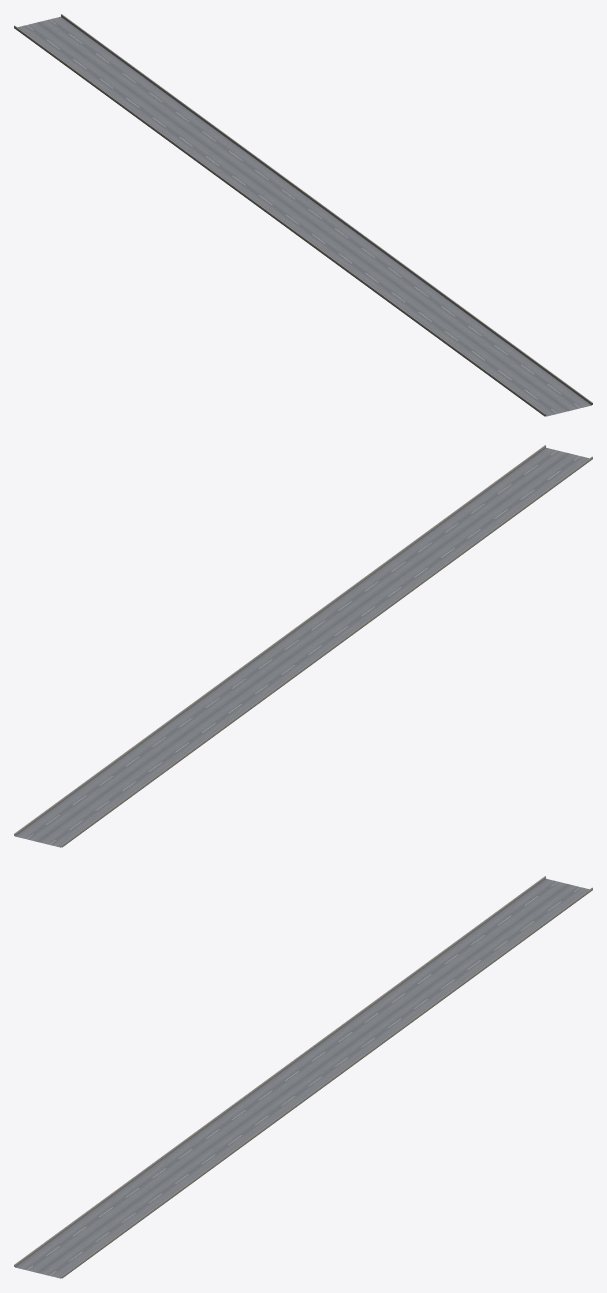
Rendered from title_road_model.fbx.
The picture shows the model from 3 angles, top to bottom: view 1: azimuth 30°, elevation 25°; view 2: azimuth 150°, elevation 25°; view 3: azimuth 330°, elevation 25°; orthographic projection.
Parts seen in each view (by area): view 1: polySurface21; view 2: polySurface21; view 3: polySurface21.
Boxes of the visible parts, x1,y1,x2,y2 form: polySurface21: (14, 14, 592, 416); polySurface21: (14, 445, 592, 847); polySurface21: (14, 876, 592, 1278).
Bounding box in the file's own units: 2080 × 100 × 40000.
